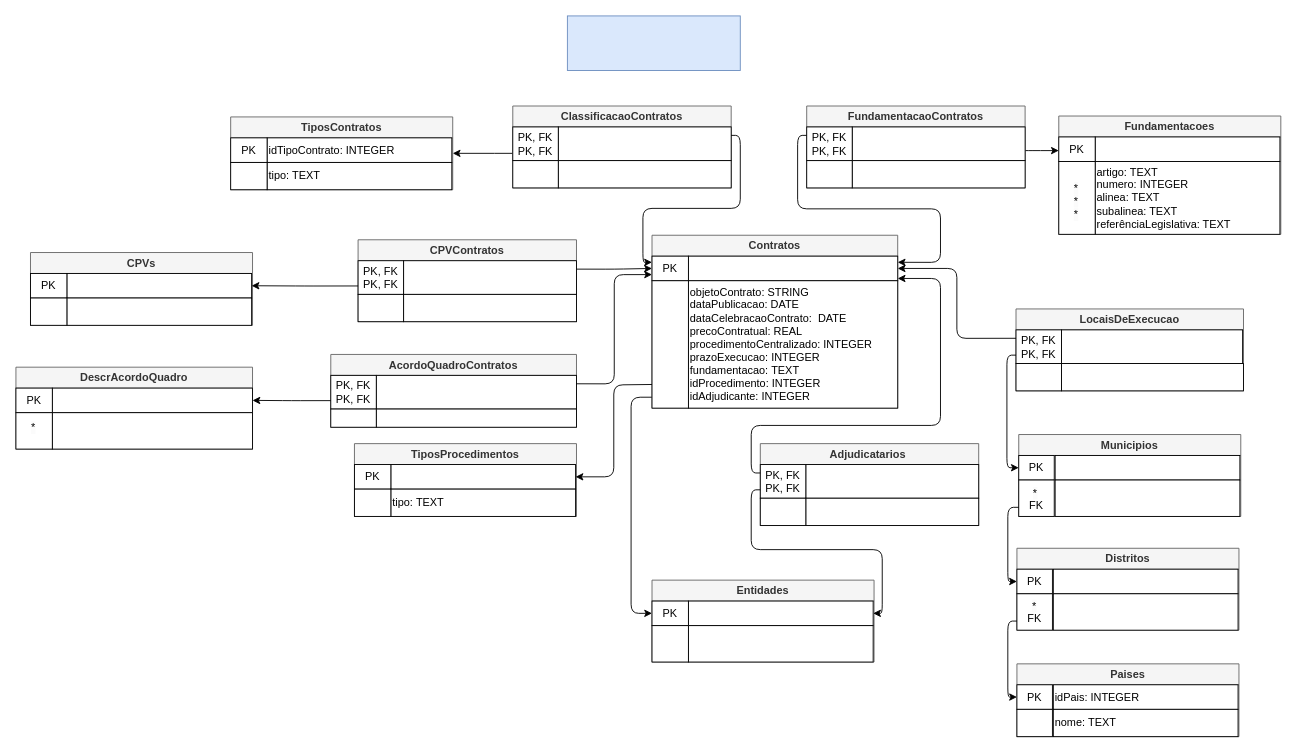
This 1297x753 diagram has some shape labels left out. Here are the shapes that lost their labels. From the top down, the centre of each, then its label:
the point at 653,43: Modelo Relacional Contratos públicos
the point at 644,143: idContrato: INTEGER idTipoContrato: INTEGER
the point at 938,143: idContrato: INTEGER idFundamentacao: INTEGER
the point at 1187,149: idFundamentacao: INTEGER
the point at 159,285: codigoCPV: TEXT
the point at 489,277: idContrato: INTEGER codigoCPV : INTEGER
the point at 793,268: idContrato: INTEGER
the point at 159,311: descricao: TEXT
the point at 669,344: FK FK
the point at 1152,346: idContrato: INTEGER idMunicipio: INTEGER
the point at 152,400: idAcordoQuadro: INTEGER
the point at 475,391: idContrato: INTEGER idAcordoQuadro : INTEGER
the point at 152,430: identificador: TEXT descricao: TEXT
the point at 483,476: idProcedimento: INTEGER
the point at 892,481: idContrato: INTEGER idAdjudicante: INTEGER
the point at 1147,467: idMunicipio: INTEGER
the point at 1147,497: nome: TEXT idDistrito: INTEGER
the point at 1145,581: idDistrito: INTEGER
the point at 780,613: idEntidade: INTEGER
the point at 1145,611: nome: TEXT idPais: INTEGER
the point at 780,643: nif: TEXT designacao: TEXT
